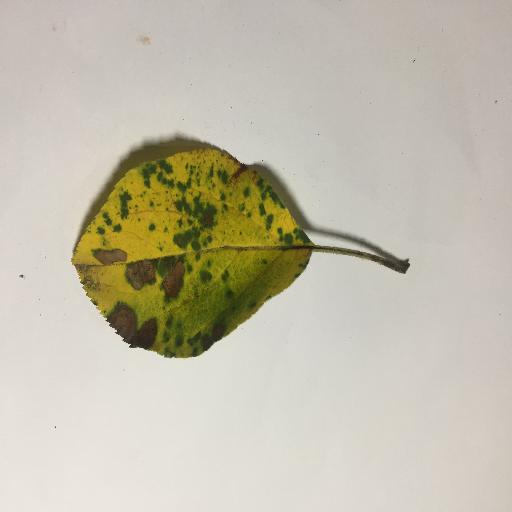Brown_Spot: (202, 153, 254, 187), (116, 303, 154, 339), (126, 268, 156, 287), (167, 263, 181, 297), (91, 250, 129, 259)
